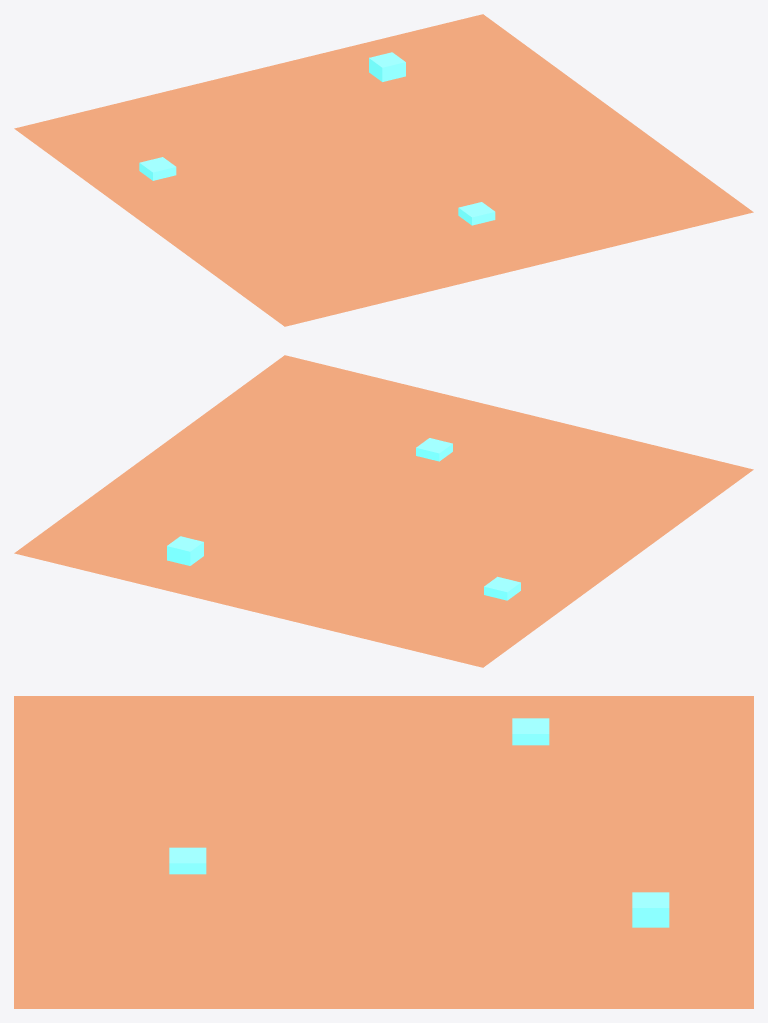
The model's file is ground_floor2.gltf.
3 renders of one model, top to bottom at view 1: azimuth 30°, elevation 25°; view 2: azimuth 150°, elevation 25°; view 3: azimuth 270°, elevation 25°, orthographic. The views are drawn at different scales.
Parts seen in each view (by area): view 1: Plane, Box (×3); view 2: Plane, Box (×3); view 3: Plane, Box (×3).
Part boxes in pixels (x1,y1,x2,y2): Plane: (14,14,753,326); Box (×3): (139,52,495,225); Plane: (14,355,753,667); Box (×3): (167,438,520,600); Plane: (14,696,753,1008); Box (×3): (169,718,669,927).
Size of the model in its own units: 1 by 0.0627 by 1.
